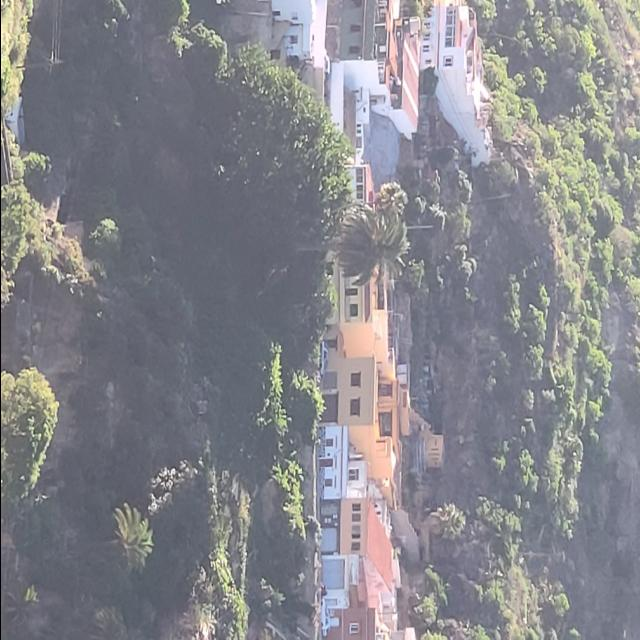Palm-Trees: (294, 212, 410, 288), (84, 502, 152, 578), (414, 500, 468, 547)
